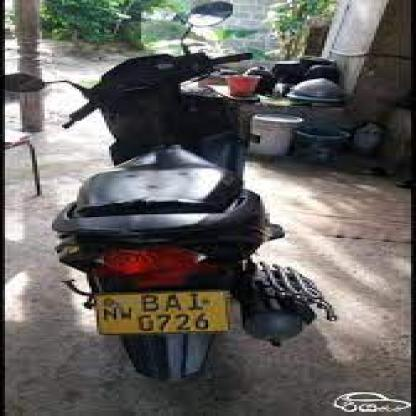bike back: (3, 0, 342, 380)
number plate: (93, 292, 230, 333)
